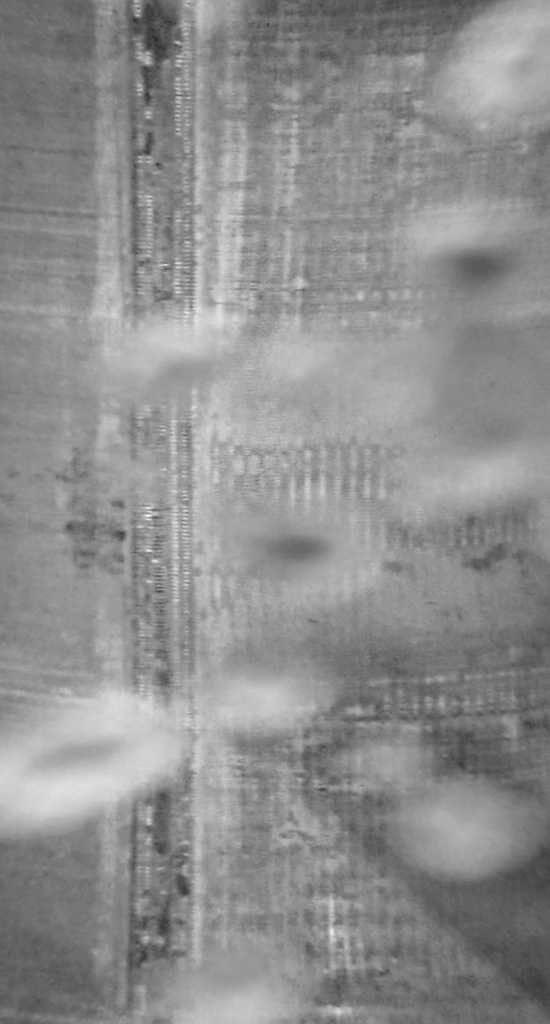splice: (114, 1, 211, 1023)
